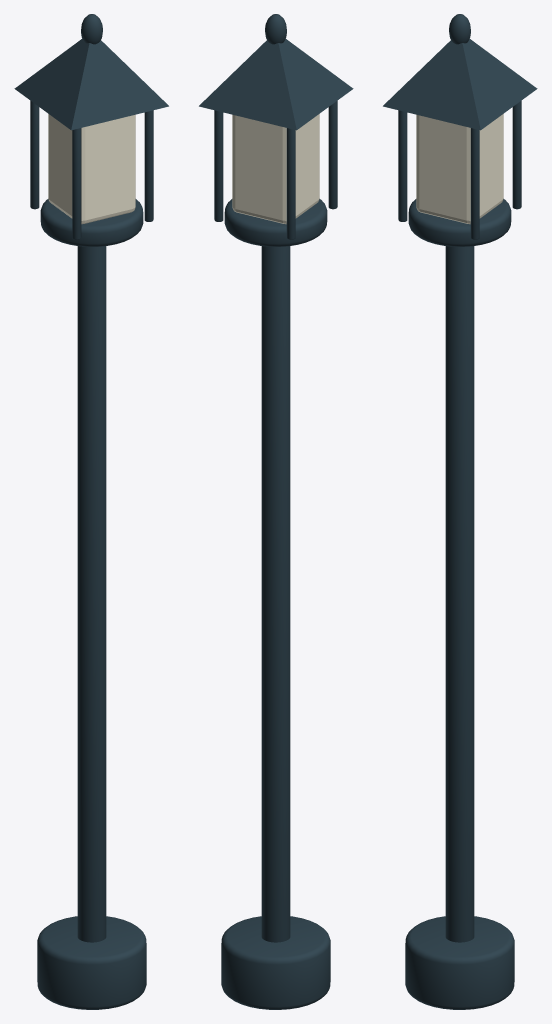
Rendered from CampusLantern.fbx.
The picture shows the model from 3 angles, left to right: view 1: azimuth 30°, elevation 25°; view 2: azimuth 150°, elevation 25°; view 3: azimuth 330°, elevation 25°; orthographic projection.
Visible parts, largest first — view 1: Post, Foot.001, Lantern roof, Warm glass, Lantern base, Lantern frame.002, Lantern frame, Lantern frame.001, Finial; view 2: Post, Foot.001, Lantern roof, Warm glass, Lantern base, Lantern frame.003, Lantern frame.001, Lantern frame, Finial; view 3: Post, Foot.001, Lantern roof, Warm glass, Lantern base, Lantern frame, Lantern frame.002, Lantern frame.003, Finial.
Part boxes in pixels (<box>): Post: <box>77,246,106,942</box>; Foot.001: <box>37,916,146,1009</box>; Lantern roof: <box>14,39,168,130</box>; Warm glass: <box>48,114,135,224</box>; Lantern base: <box>40,199,143,246</box>; Lantern frame.002: <box>144,110,153,221</box>; Lantern frame: <box>72,128,81,239</box>; Lantern frame.001: <box>30,101,39,209</box>; Finial: <box>81,14,102,44</box>; Post: <box>261,246,290,942</box>; Foot.001: <box>221,916,330,1009</box>; Lantern roof: <box>199,39,353,130</box>; Warm glass: <box>232,114,319,224</box>; Lantern base: <box>224,199,327,246</box>; Lantern frame.003: <box>214,110,223,221</box>; Lantern frame.001: <box>286,128,295,239</box>; Lantern frame: <box>328,101,337,209</box>; Finial: <box>265,14,286,44</box>; Post: <box>445,246,474,942</box>; Foot.001: <box>405,916,514,1009</box>; Lantern roof: <box>383,39,537,130</box>; Warm glass: <box>416,114,503,224</box>; Lantern base: <box>408,199,511,246</box>; Lantern frame: <box>398,110,407,221</box>; Lantern frame.002: <box>470,128,479,239</box>; Lantern frame.003: <box>512,101,521,209</box>; Finial: <box>449,14,470,44</box>.
Bounding box in the file's own units: 0.3536 × 3.34 × 0.3536.
